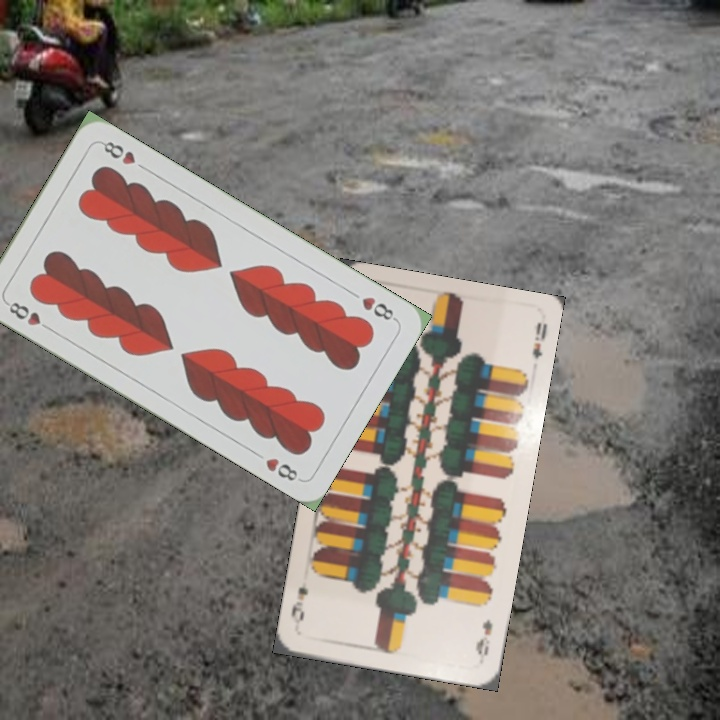E9: (472, 615, 495, 658)
H8: (2, 297, 55, 334), (357, 292, 400, 324)
